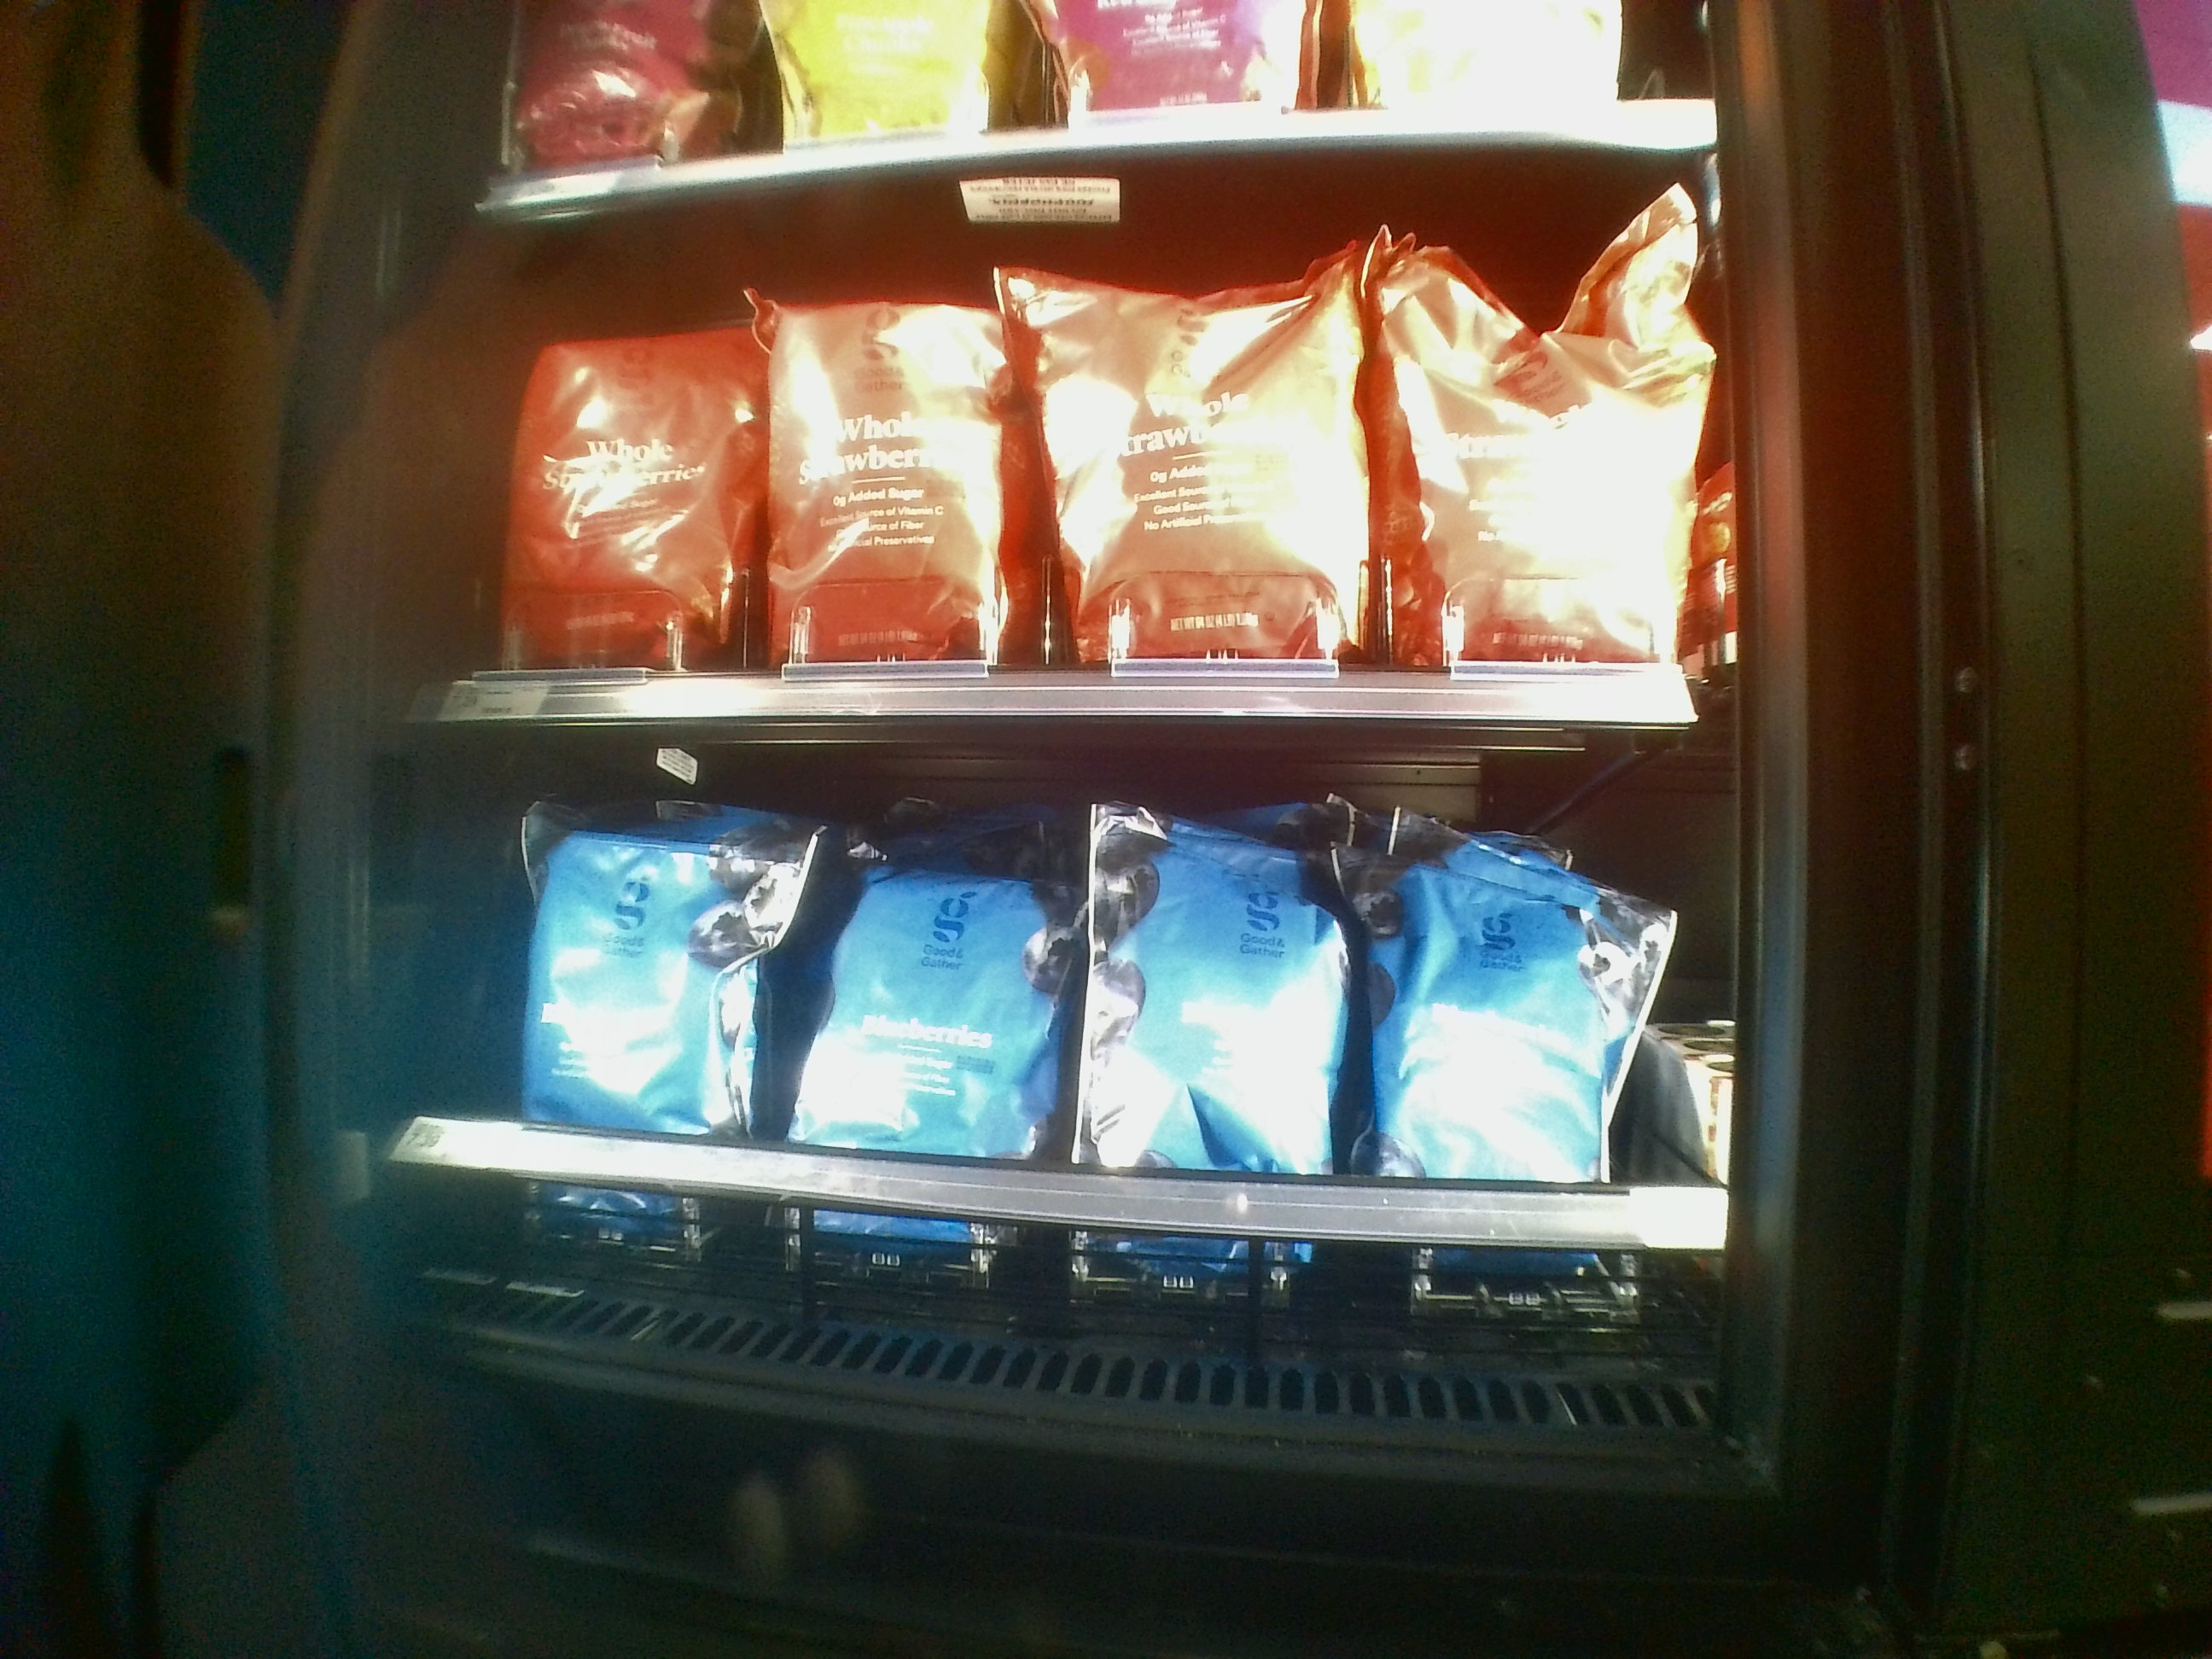shelf: (472, 721, 1719, 1378), (469, 173, 1714, 725)
